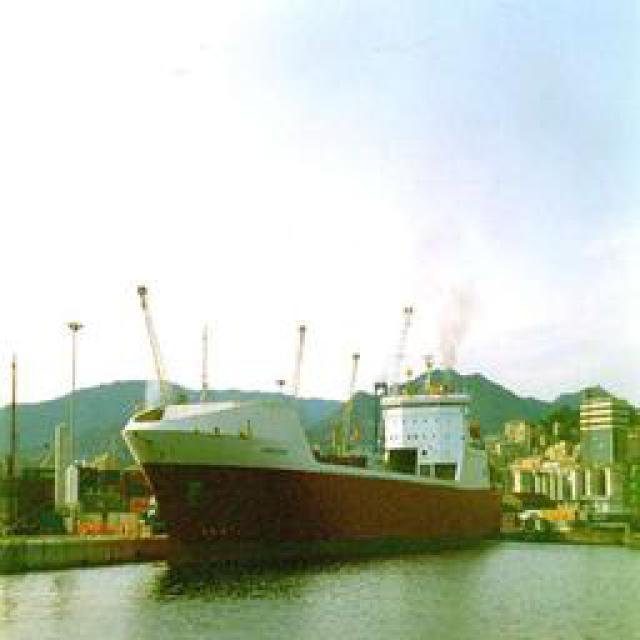Ship: (114, 388, 504, 573)
